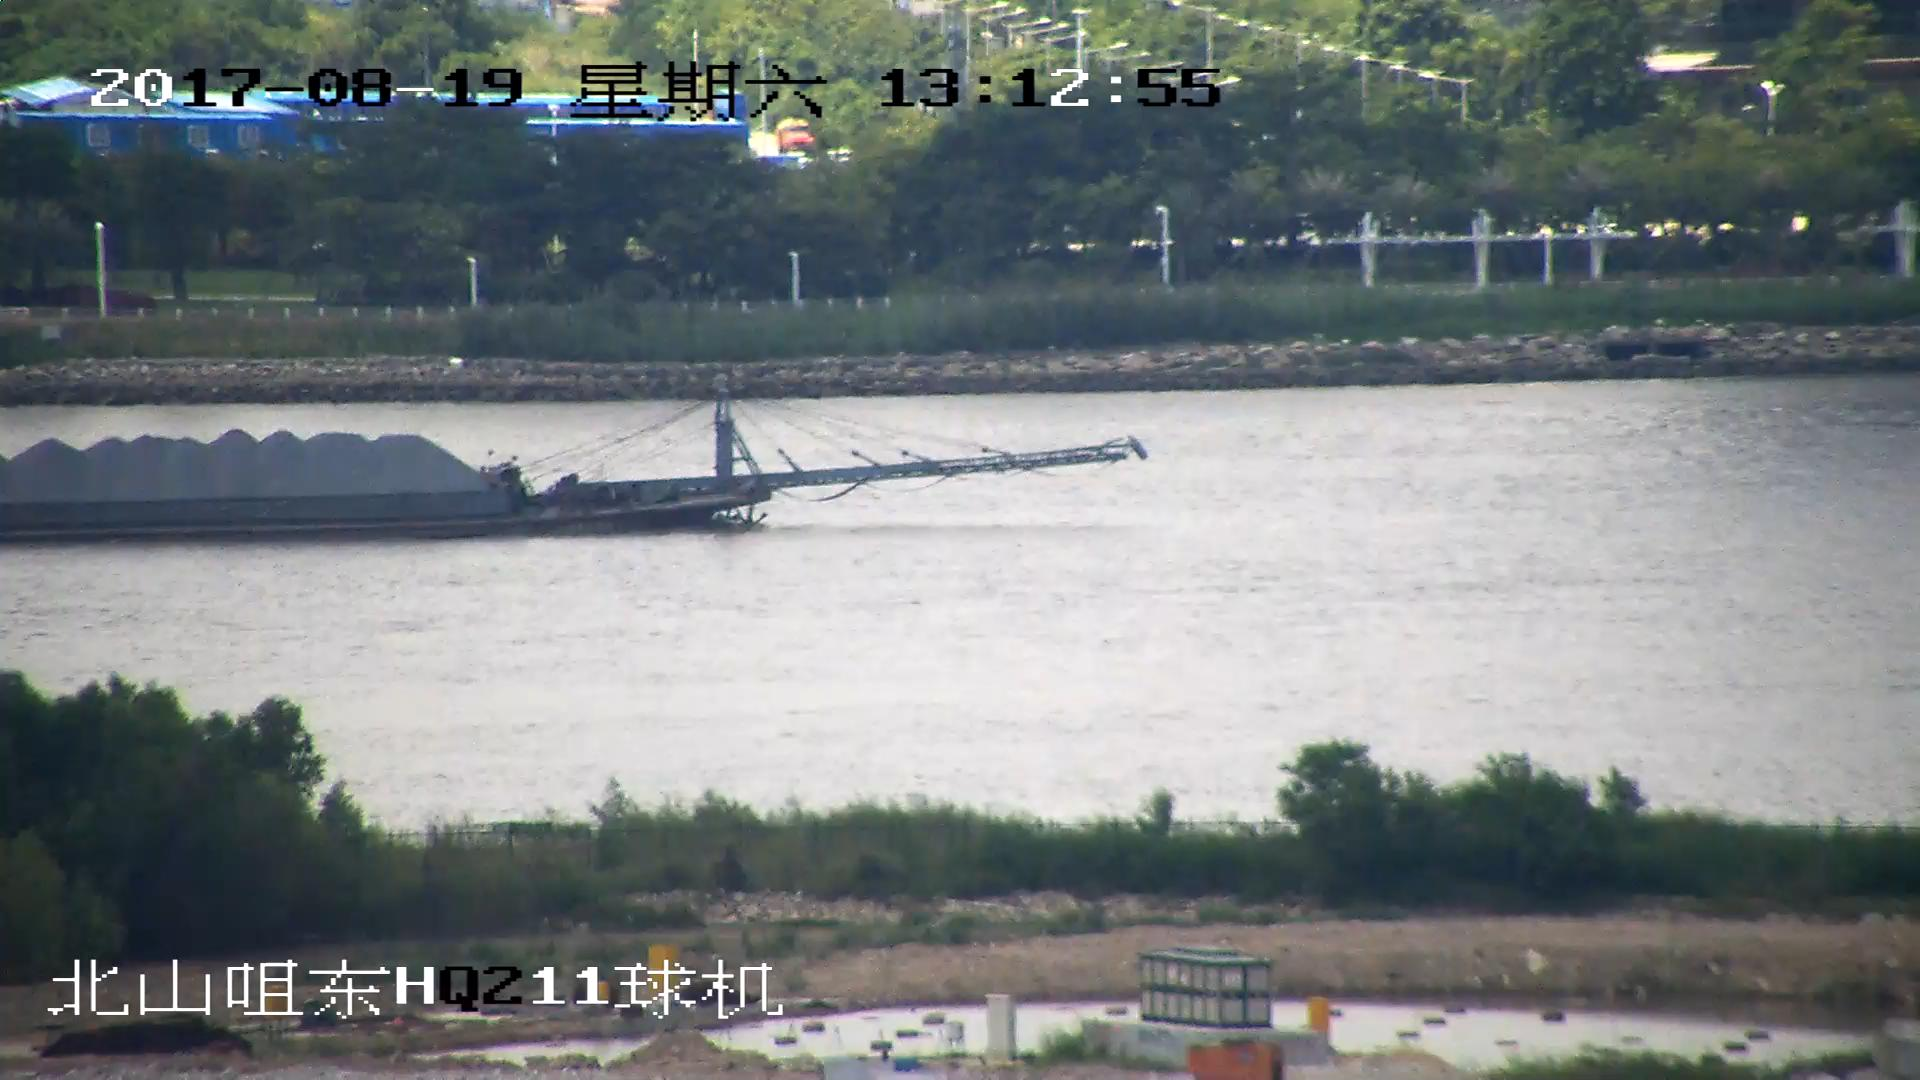ore carrier: (1, 372, 1149, 535)
